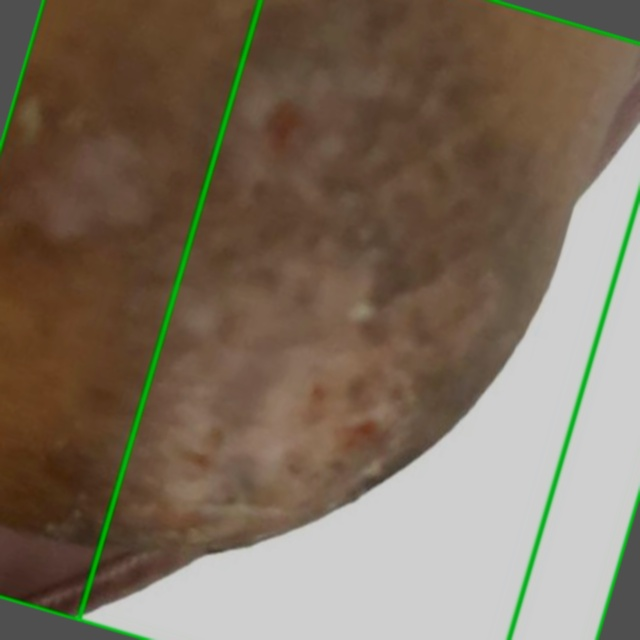Eczema: (0, 0, 639, 639), (79, 0, 639, 639)
